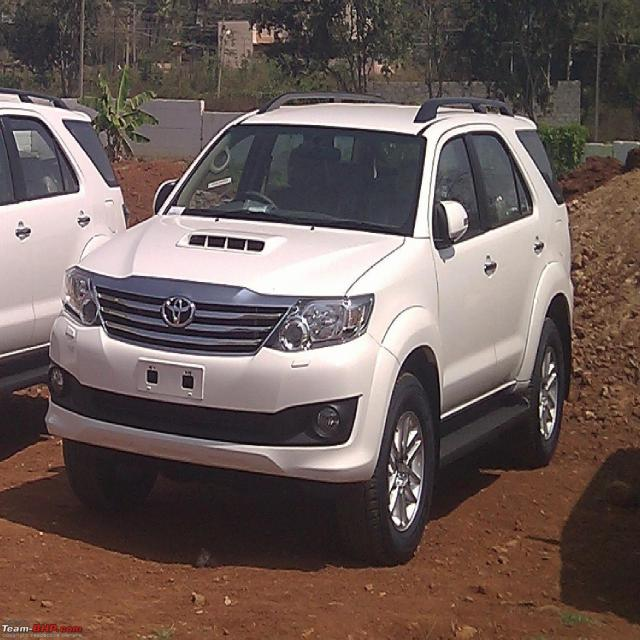light_vehicle: (43, 92, 576, 567)
